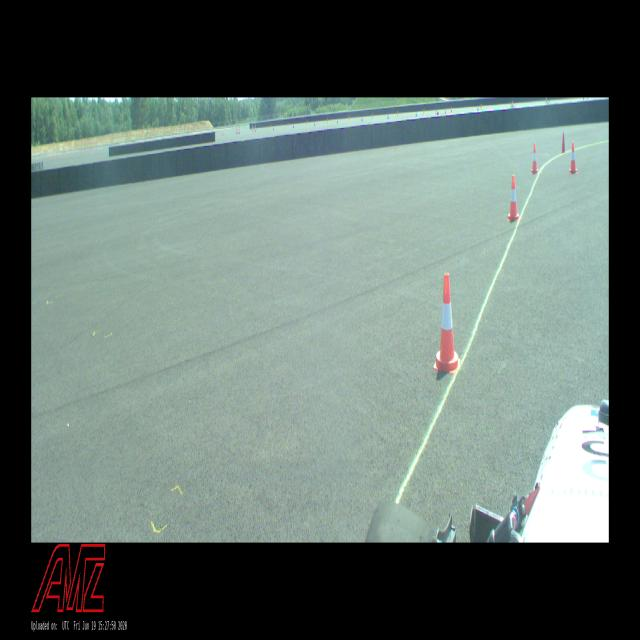orange_cone: (433, 273, 461, 374), (508, 176, 519, 222), (531, 144, 539, 174), (570, 143, 578, 173)
unknown_cone: (561, 132, 565, 153)
